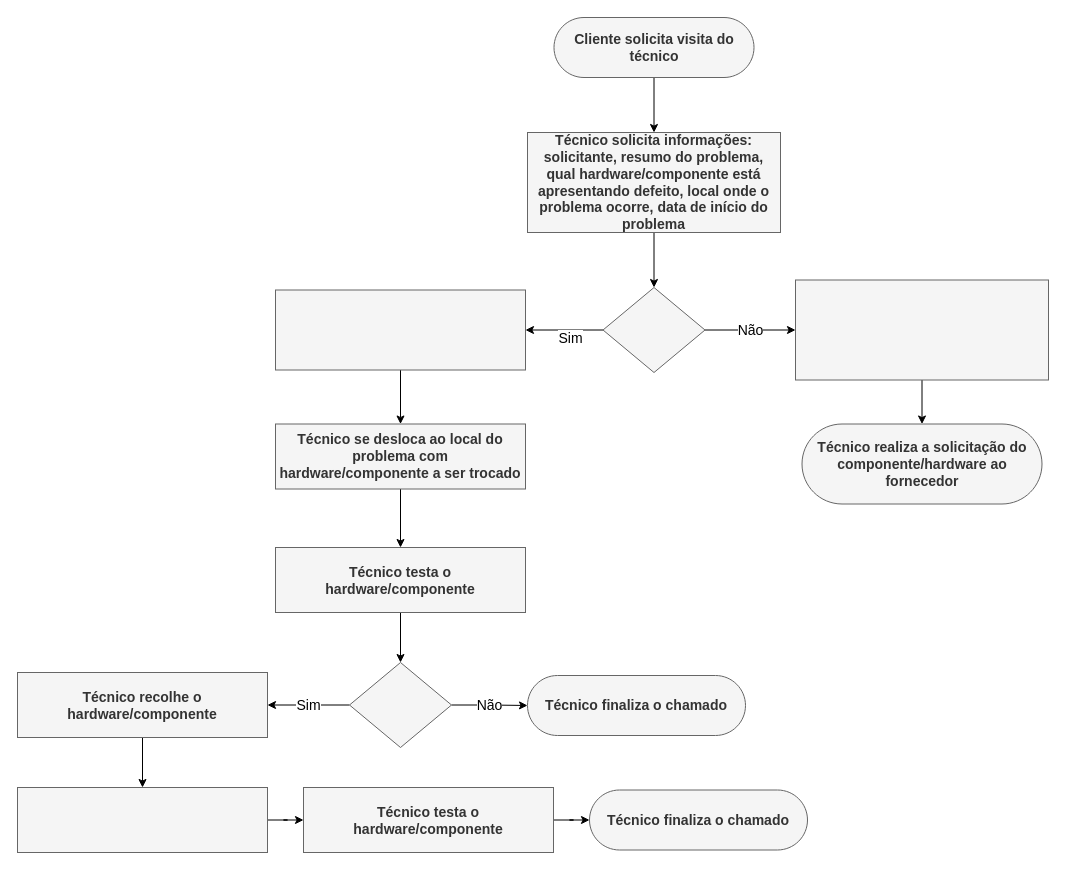
This 1066x870 diagram has some shape labels left out. The centre of each missing label's shape, as x and y in pixels:
"Hardware/ componente defeituoso?" belongs at (x=400, y=705).
"Há estoque?" belongs at (x=653, y=329).
"Técnico abre chamado em sistema de registro de chamados" belongs at (x=400, y=329).
"Técnico informa e aguarda encerramento da ligação pelo cliente" belongs at (x=921, y=329).
"Técnico troca o hardware/componente" belongs at (x=142, y=819).
